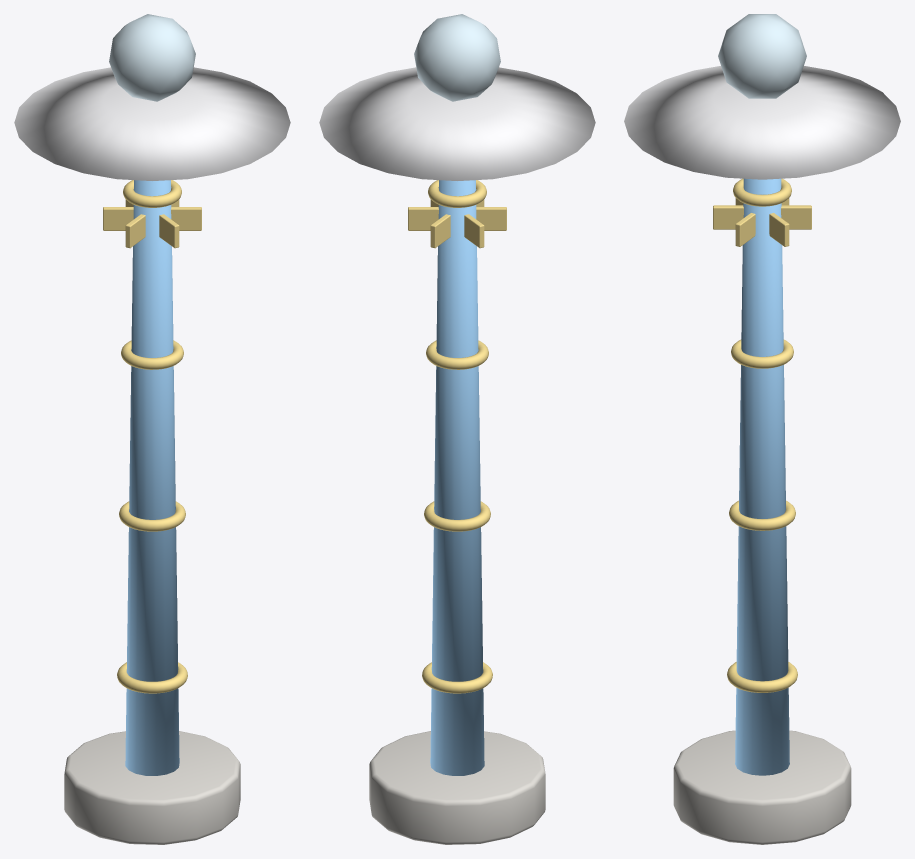
The model's file is weather_pylon.glb.
3 views of the same model, side by side, from view 1: azimuth 30°, elevation 25°; view 2: azimuth 150°, elevation 25°; view 3: azimuth 270°, elevation 25° (orthographic).
Visible parts, largest first — view 1: weather_pylon; view 2: weather_pylon; view 3: weather_pylon.
Boxes of the visible parts, x1,y1,x2,y2 form: weather_pylon: (14, 14, 290, 844); weather_pylon: (319, 14, 595, 844); weather_pylon: (624, 14, 900, 844).
Size of the model in its own units: 2.8 by 8.85 by 2.8.
